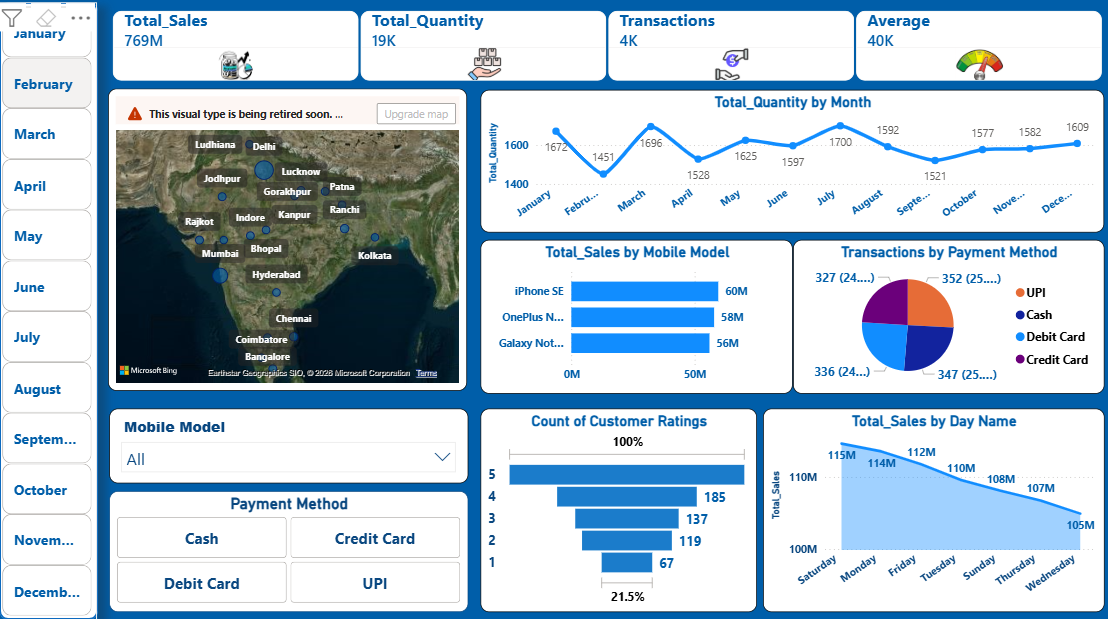

The page's visual inventory and layout, read from the dashboard file:
{"tool":"powerbi","page":{"name":"1.0","canvas":[1280,720],"ordinal":0},"visuals":[{"type":"shape","box":[1.4,17.1,111.4,687.1],"z":0},{"type":"advancedSlicerVisual","fields":{"Values":["Sheet1.Date.Variation.Date Hierarchy.Month"]},"box":[0,17.1,112.9,687.1],"z":1000},{"type":"cardVisual","fields":{"Data":["Sales_Data.Total_Sales","Sales_Data.Total_Quantity","Sales_Data.Transactions","Sales_Data.Average"]},"box":[112.9,0,1165.7,114.3],"z":2000},{"type":"map","fields":{"Category":["Sales_Data.City"],"Size":["Sales_Data.Total_Sales"]},"box":[125.7,105.7,410,345.7],"z":3000},{"type":"lineChart","fields":{"Category":["Sales_Data.Date.Variation.Date Hierarchy.Month","Sales_Data.Date.Variation.Date Hierarchy.Day"],"Y":["Sales_Data.Total_Quantity"]},"box":[551.4,107.1,712.9,162.9],"z":4000},{"type":"clusteredBarChart","fields":{"Category":["Sales_Data.Mobile Model"],"Y":["Sales_Data.Total_Sales"]},"box":[551.4,278.6,357.1,175.7],"z":5000},{"type":"pieChart","fields":{"Category":["Sales_Data.Payment Method"],"Y":["Sales_Data.Transactions"]},"box":[908.6,278.6,355.7,175.7],"z":6000},{"type":"funnel","title":"Count of Customer Ratings ","fields":{"Category":["Sales_Data.Customer Ratings"],"Y":["CountNonNull(Sales_Data.Customer Ratings)"]},"box":[551.4,471.4,315.7,232.9],"z":7000},{"type":"areaChart","fields":{"Category":["Sales_Data.Day Name"],"Y":["Sales_Data.Total_Sales"]},"box":[874.3,471.4,390,232.9],"z":8000},{"type":"advancedSlicerVisual","fields":{"Values":["Sales_Data.Payment Method"]},"box":[127.1,565.7,410,138.6],"z":9000},{"type":"slicer","fields":{"Values":["Sales_Data.Mobile Model"]},"box":[127.1,471.4,410,85.7],"z":10000}]}

Visuals, with their boxes in screenshot pixels (x1, y1, x2, y2), scaled from the page's 1280x720 canvas onto the 1108x619 screenshot:
shape: (1,15,98,605)
advancedSlicerVisual - Sheet1.Date.Variation.Date Hierarchy.Month: (0,15,98,605)
cardVisual - Sales_Data.Total_Sales x Sales_Data.Total_Quantity: (98,0,1107,98)
map - Sales_Data.City x Sales_Data.Total_Sales: (109,91,464,388)
lineChart - Sales_Data.Date.Variation.Date Hierarchy.Month x Sales_Data.Date.Variation.Date Hierarchy.Day: (477,92,1094,232)
clusteredBarChart - Sales_Data.Mobile Model x Sales_Data.Total_Sales: (477,240,786,391)
pieChart - Sales_Data.Payment Method x Sales_Data.Transactions: (787,240,1094,391)
"Count of Customer Ratings " funnel: (477,405,751,606)
areaChart - Sales_Data.Day Name x Sales_Data.Total_Sales: (757,405,1094,606)
advancedSlicerVisual - Sales_Data.Payment Method: (110,486,465,606)
slicer - Sales_Data.Mobile Model: (110,405,465,479)
